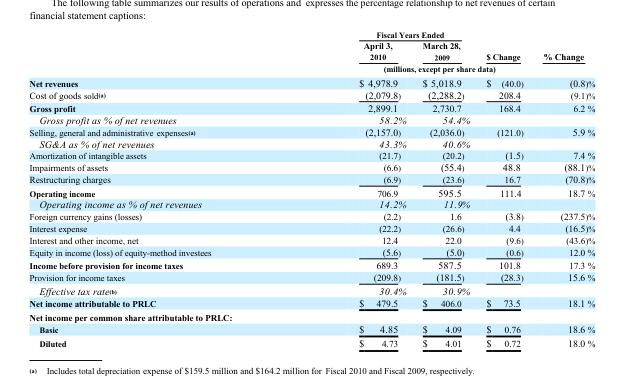table: (28, 29, 594, 348)
table column: (28, 29, 284, 348), (284, 29, 413, 348), (413, 29, 477, 348), (532, 29, 594, 348), (477, 29, 532, 348)
table column header: (28, 29, 594, 74)
table projected row header: (28, 309, 594, 322)
table row: (28, 39, 594, 62), (28, 74, 594, 88), (28, 100, 594, 113), (28, 172, 594, 185), (28, 185, 594, 198), (28, 245, 594, 258), (28, 270, 594, 283), (28, 283, 594, 296), (28, 296, 594, 309), (28, 309, 594, 322), (28, 322, 594, 335), (28, 335, 594, 348), (28, 62, 594, 74), (28, 88, 594, 100), (28, 113, 594, 125), (28, 125, 594, 137), (28, 137, 594, 149), (28, 160, 594, 172), (28, 198, 594, 210), (28, 221, 594, 233), (28, 233, 594, 245), (28, 258, 594, 270), (28, 149, 594, 160), (28, 210, 594, 221), (28, 29, 594, 39)
table spanning cell: (284, 62, 532, 74), (532, 29, 594, 74), (284, 29, 477, 39), (477, 29, 532, 62)
